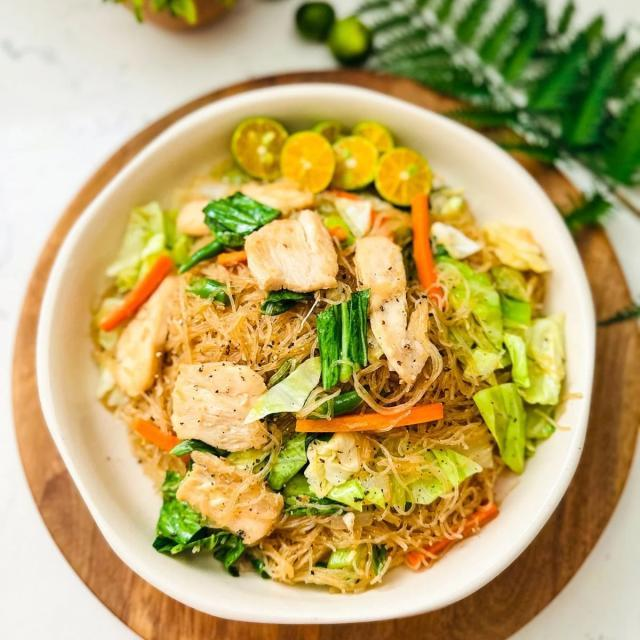pancit bihon: (108, 170, 570, 584)
